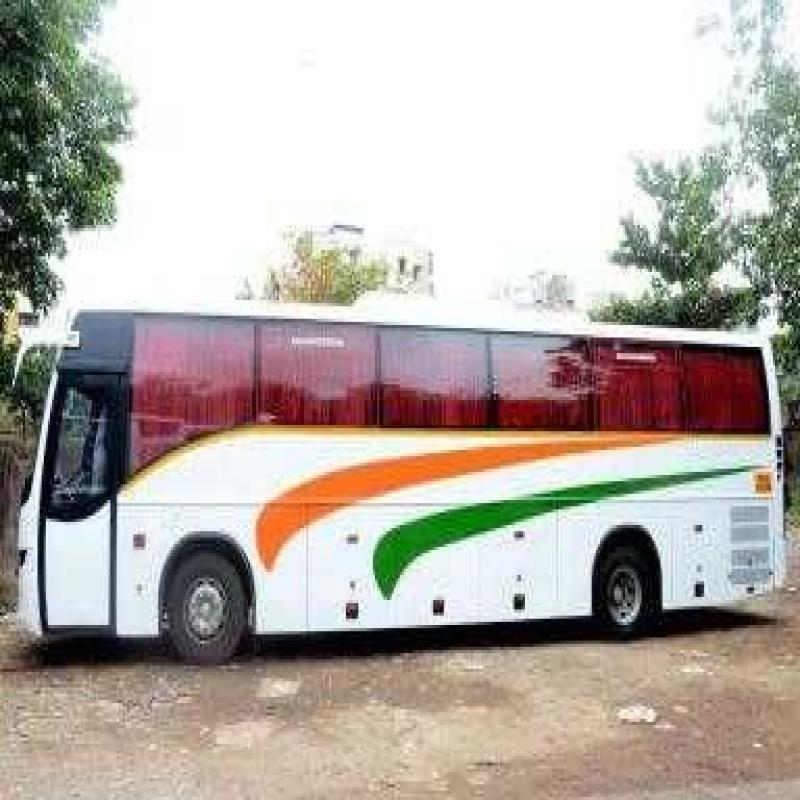bus: (42, 292, 757, 667)
